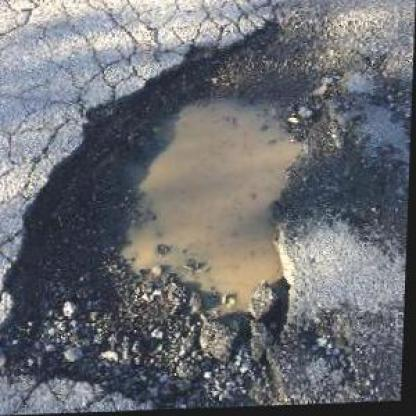pothole: (0, 18, 341, 415)
